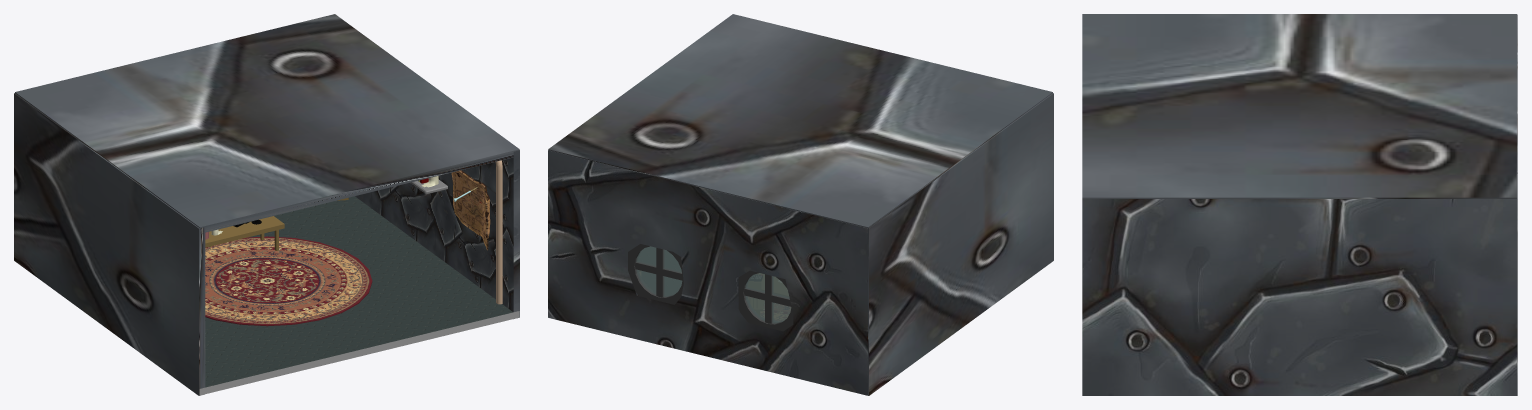
File: CandleRoom.fbx
3 renders of one model, left to right at view 1: azimuth 30°, elevation 25°; view 2: azimuth 150°, elevation 25°; view 3: azimuth 270°, elevation 25°, orthographic. The views are drawn at different scales.
Visible parts, largest first — view 1: Ceiling, Wall2, Floor, pDisc1, Wall1, Map2, Table, Pipe2; view 2: Ceiling, Wall, Wall2, Window4; view 3: Wall1, Ceiling, Wall.
Part boxes in pixels (box(x1,y1,x2,y2)): Ceiling: box(15, 14, 519, 232); Wall2: box(14, 93, 205, 395); Floor: box(199, 196, 519, 395); pDisc1: box(205, 236, 372, 326); Wall1: box(355, 150, 519, 318); Map2: box(451, 170, 490, 250); Table: box(205, 216, 284, 250); Pipe2: box(495, 160, 502, 304); Ceiling: box(548, 14, 1052, 227); Wall: box(548, 150, 868, 395); Wall2: box(868, 93, 1053, 395); Window4: box(628, 244, 793, 331); Wall1: box(1082, 199, 1517, 395); Ceiling: box(1082, 14, 1517, 198); Wall: box(1517, 15, 1517, 395).
Bounding box in the file's own units: 100 × 50.29 × 100.
37 materials, 5 textured.
